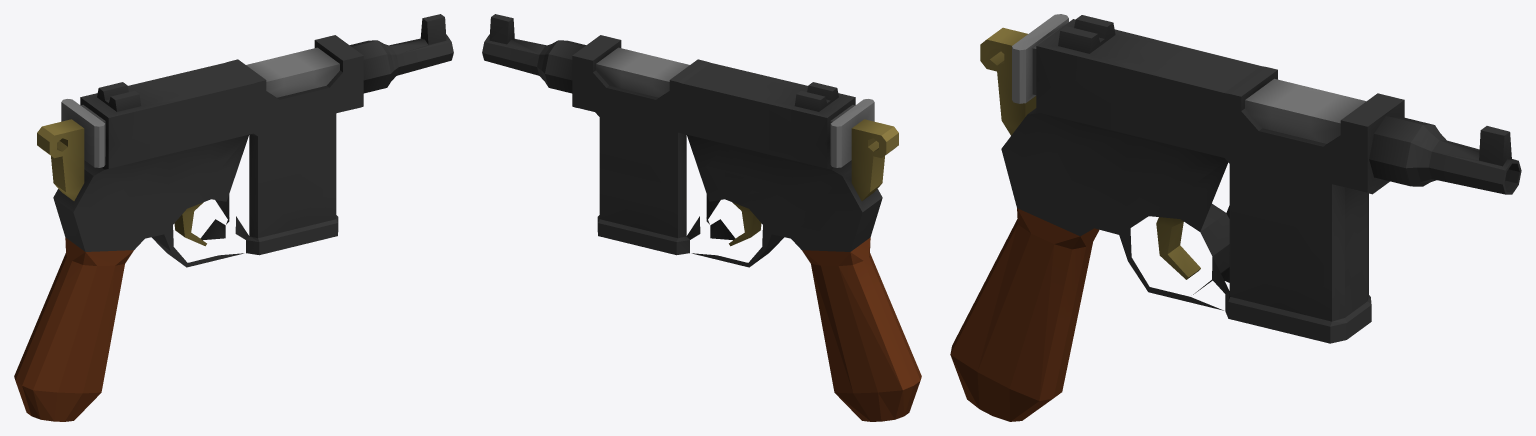
Rendered from v-msr-c96-short.glb.
3 renders of one model, left to right at view 1: azimuth 30°, elevation 25°; view 2: azimuth 150°, elevation 25°; view 3: azimuth 330°, elevation 25°, orthographic. The views are drawn at different scales.
Parts seen in each view (by area): view 1: body; view 2: body; view 3: body.
Part boxes in pixels (x1=…): body: x1=14, y1=14, x2=453, y2=421; body: x1=482, y1=14, x2=921, y2=421; body: x1=950, y1=14, x2=1521, y2=421.
Bounding box in the file's own units: 0.1892 × 0.1324 × 0.0281.
